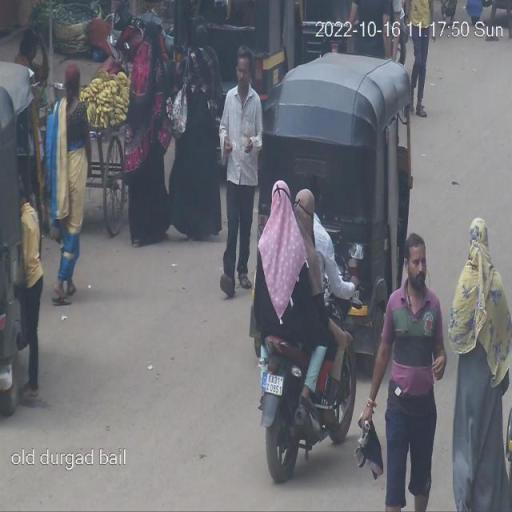tripple riding: (237, 152, 373, 338)
